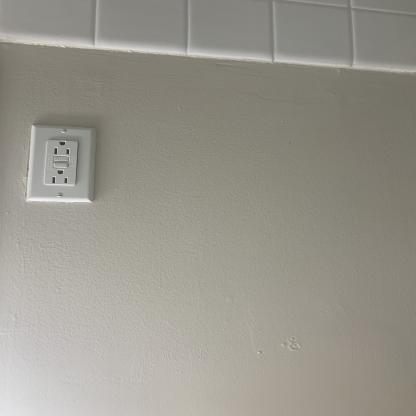OUTLET: (24, 126, 93, 202)
